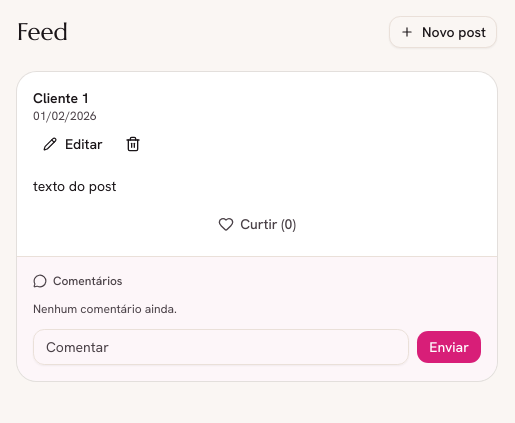
Test: FeedPage › mostra a mensagem de erro original quando curtir falha
Click the button "Curtir (0)" at (257, 224), box [33,208,481,240]
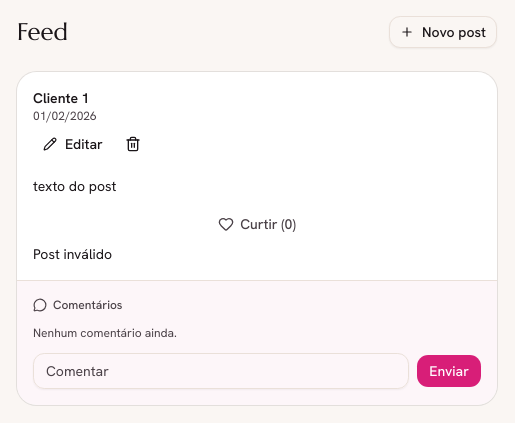
Result: the message reads "Post inválido" at [33,245,112,263]
